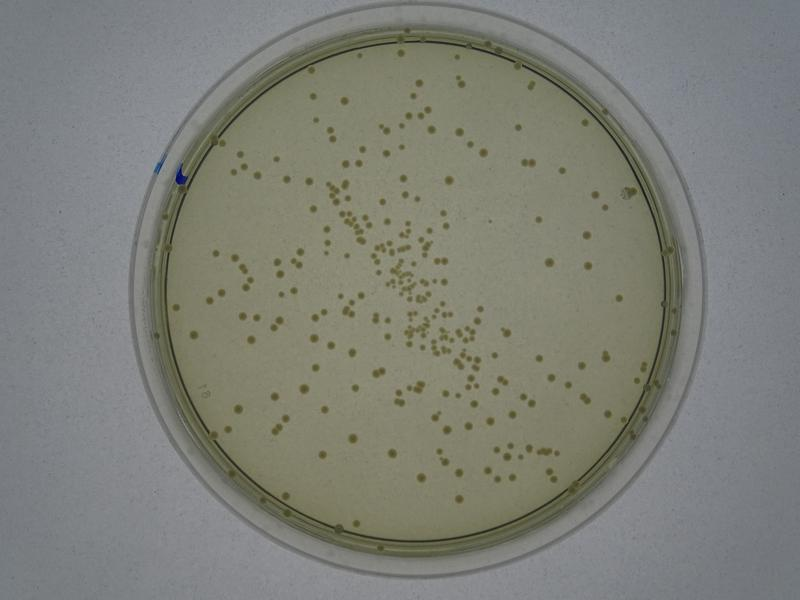colony: (314, 448, 332, 466), (580, 260, 597, 276), (578, 227, 593, 244), (542, 253, 557, 269), (386, 444, 398, 463), (442, 172, 458, 186), (413, 471, 429, 485), (534, 211, 546, 229), (170, 300, 184, 315), (612, 292, 627, 306), (318, 401, 332, 416), (245, 333, 259, 347), (232, 403, 246, 417), (296, 383, 312, 395), (209, 247, 222, 261), (287, 283, 301, 296), (345, 345, 358, 358), (514, 120, 526, 134), (348, 430, 359, 445), (454, 125, 466, 138), (187, 329, 199, 342), (253, 170, 264, 184), (348, 384, 362, 395), (270, 389, 281, 403), (341, 249, 353, 261), (303, 176, 314, 189), (308, 331, 319, 344), (280, 175, 293, 186), (532, 353, 545, 364), (414, 76, 425, 89), (555, 166, 567, 177), (308, 203, 318, 216), (356, 288, 366, 301), (308, 92, 320, 102), (479, 146, 489, 158), (338, 96, 349, 106), (272, 153, 282, 164), (323, 224, 333, 234)
